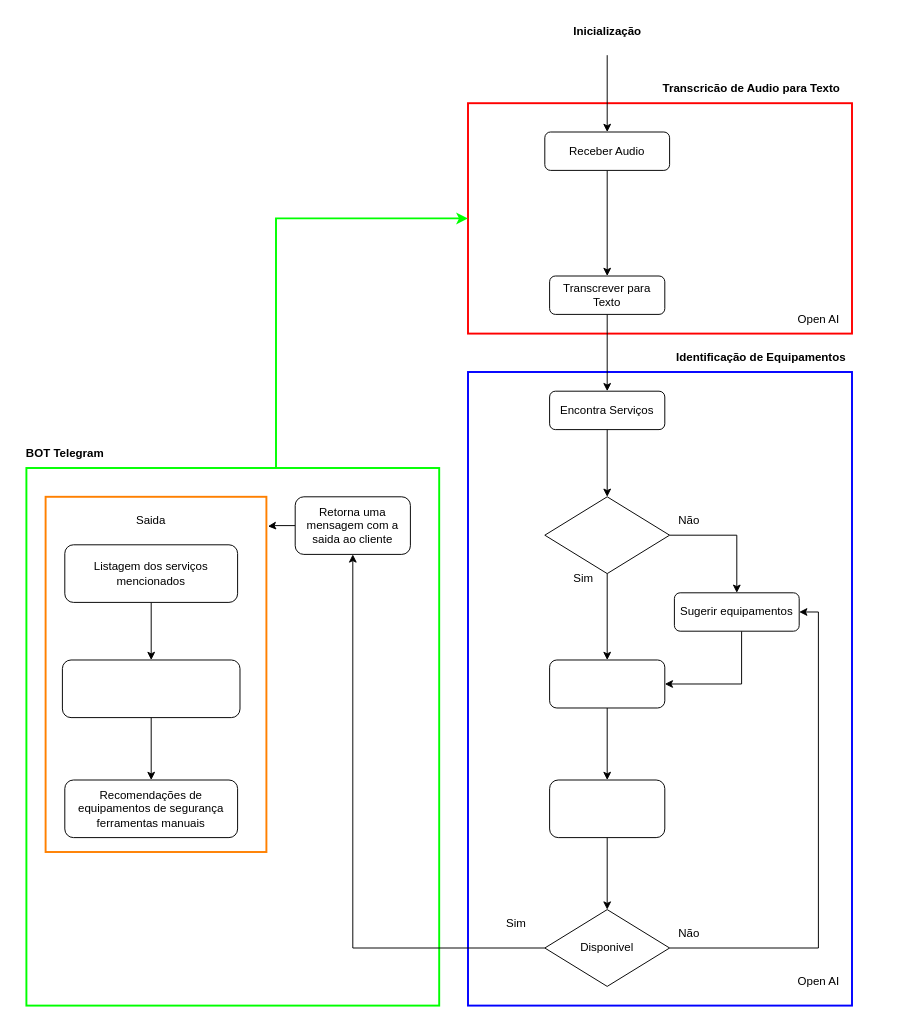
This 907x1022 diagram has some shape labels left out. The centre of each missing label's shape, as x and y in pixels:
"Identifica Equipamentos" belongs at [607,535].
"Identificar codigo SAP" belongs at [607,683].
"Recomendações de equipamentos com SAP para cada serviço" belongs at [150,688].
"Verificar Disponibilidade" belongs at [607,808].
